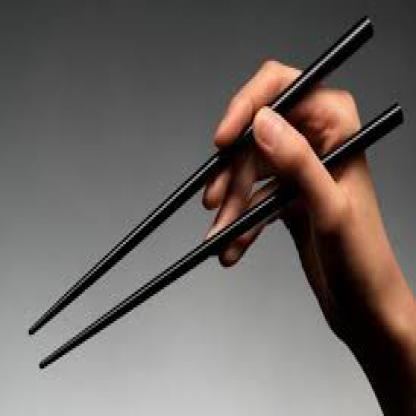chopstick: (27, 18, 376, 332), (39, 107, 407, 366)
